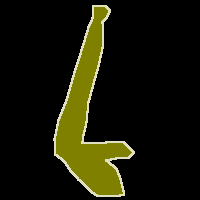tie: (54, 6, 134, 196)
